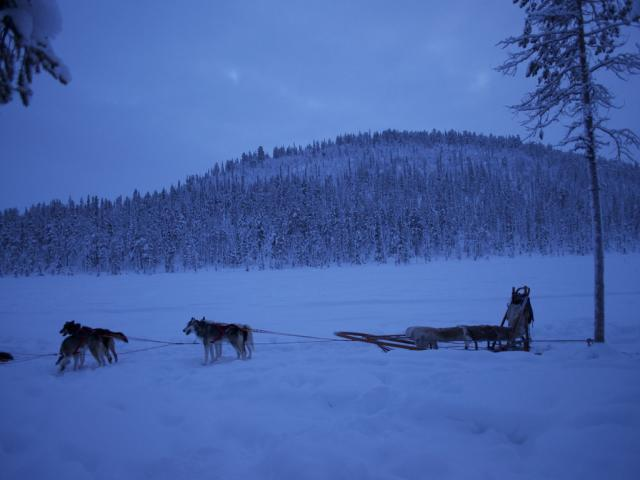Dog: (182, 315, 255, 368), (54, 328, 132, 372), (60, 320, 119, 365)
